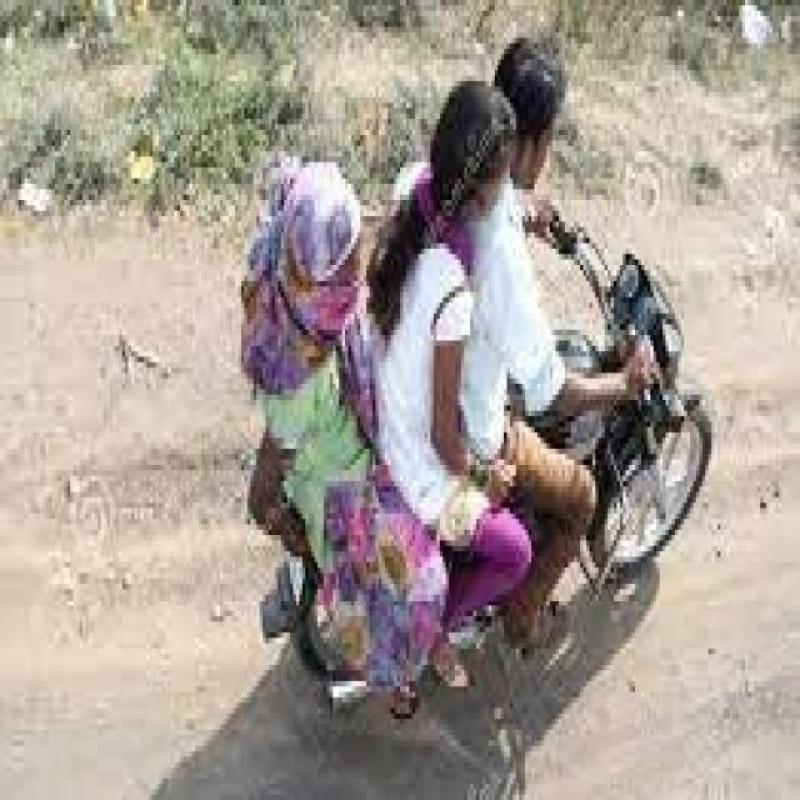nohelmet: (493, 23, 578, 204), (282, 161, 368, 335), (433, 79, 498, 227)
